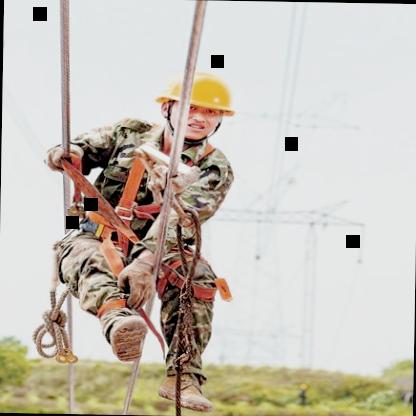helmet: (180, 66, 238, 146)
